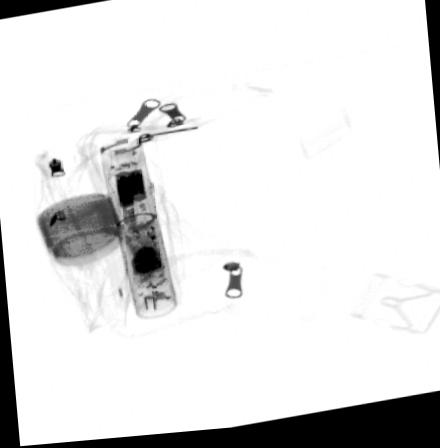Baton: (97, 137, 177, 324)
